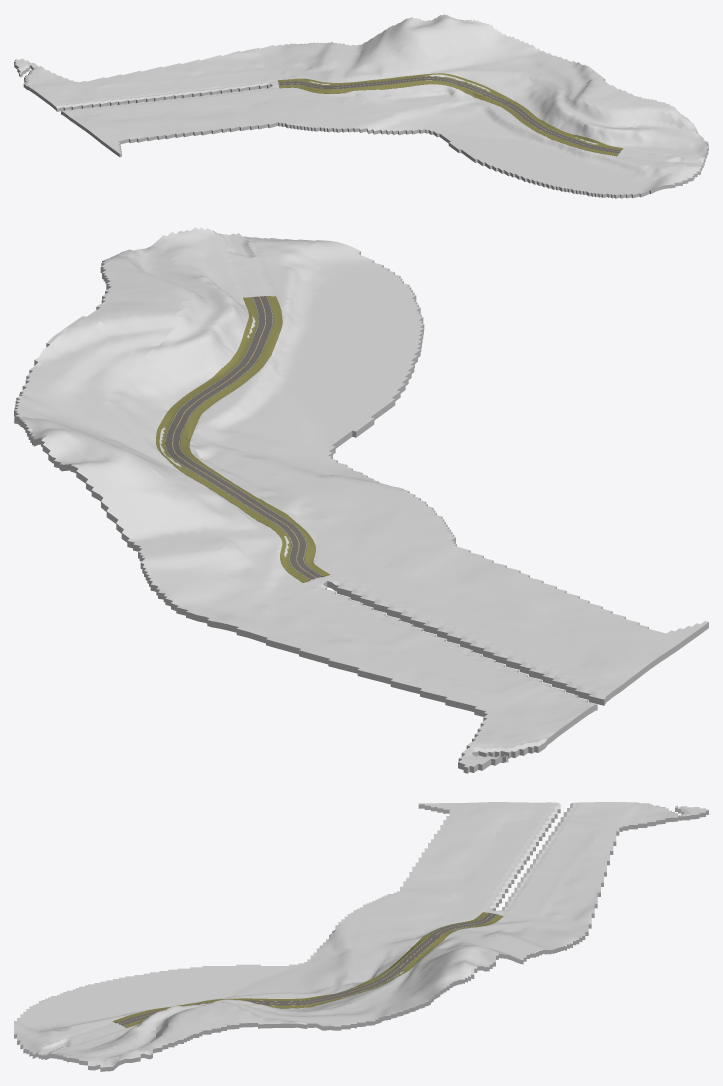
File: conz_117.glb
The picture shows the model from 3 angles, top to bottom: view 1: azimuth 30°, elevation 25°; view 2: azimuth 150°, elevation 25°; view 3: azimuth 270°, elevation 25°; orthographic projection. The views are drawn at different scales.
Visible parts, largest first — view 1: terrain117, road117, verge117R, verge117L; view 2: terrain117, road117, verge117L, verge117R; view 3: terrain117, road117, verge117R, verge117L.
Boxes of the visible parts, x1,y1,x2,y2 form: terrain117: [14, 14, 708, 198]; road117: [278, 76, 621, 153]; verge117R: [279, 80, 618, 156]; verge117L: [277, 73, 623, 150]; terrain117: [14, 227, 708, 773]; road117: [165, 296, 322, 579]; verge117L: [156, 297, 310, 582]; verge117R: [180, 296, 330, 576]; terrain117: [14, 802, 708, 1071]; road117: [117, 913, 497, 1025]; verge117R: [113, 912, 488, 1023]; verge117L: [123, 914, 503, 1027].
Bounding box in the file's own units: 408 × 38.81 × 450.
